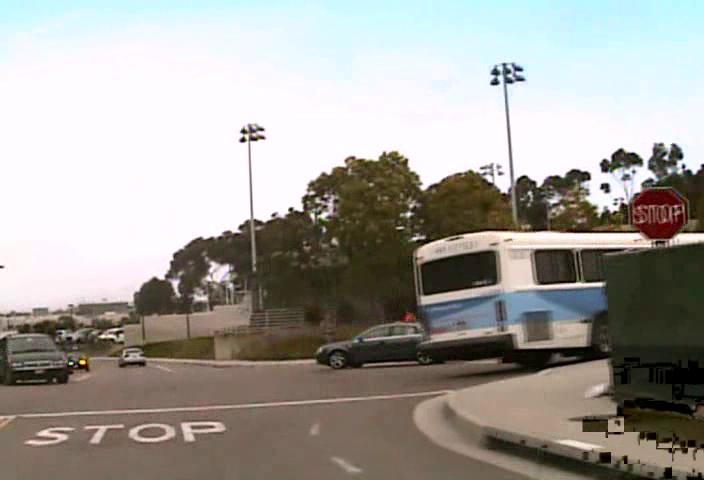stop: (631, 186, 689, 240)
